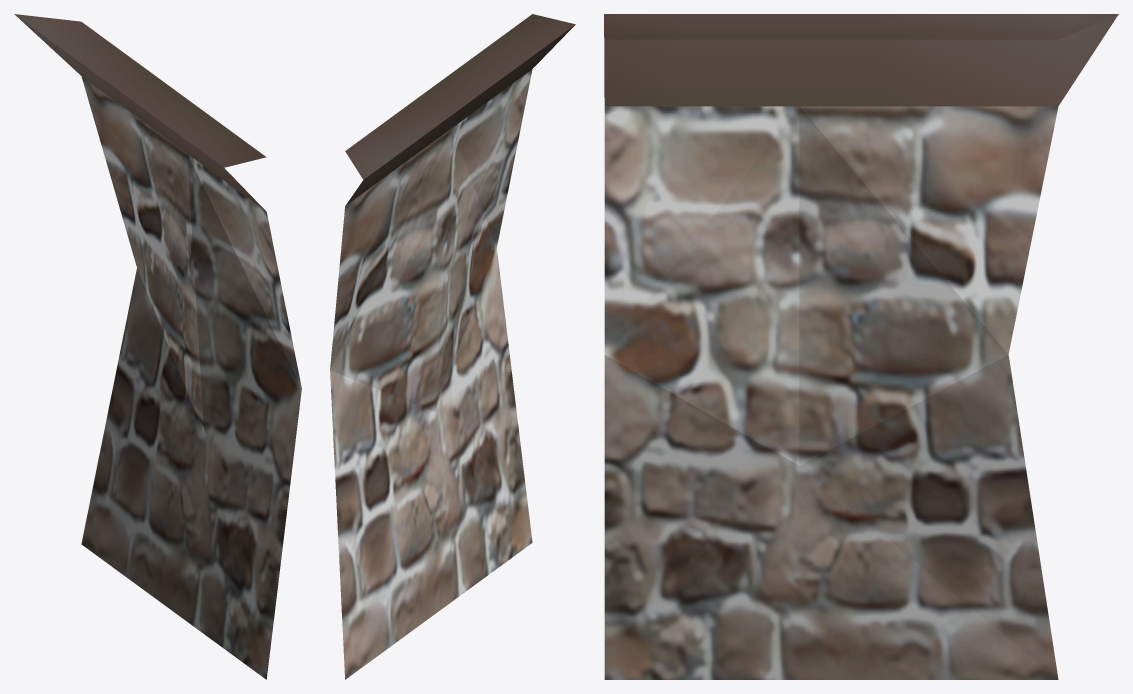
File: W_A2l_x_Gedreht_1024.glb
The picture shows the model from 3 angles, left to right: view 1: azimuth 30°, elevation 25°; view 2: azimuth 150°, elevation 25°; view 3: azimuth 270°, elevation 25°; orthographic projection. The views are drawn at different scales.
Parts seen in each view (by area): view 1: polySurfaceShape1204, polySurfaceShape1206; view 2: polySurfaceShape1204, polySurfaceShape1206; view 3: polySurfaceShape1204, polySurfaceShape1206.
Boxes of the visible parts, x1,y1,x2,y2 form: polySurfaceShape1204: (81, 76, 301, 679); polySurfaceShape1206: (14, 14, 266, 210); polySurfaceShape1204: (330, 69, 532, 679); polySurfaceShape1206: (345, 14, 575, 205); polySurfaceShape1204: (604, 106, 1058, 679); polySurfaceShape1206: (604, 14, 1118, 106).
Size of the model in its own units: 0.0607 by 0.3891 by 0.2836.
2 materials, 2 textured.
